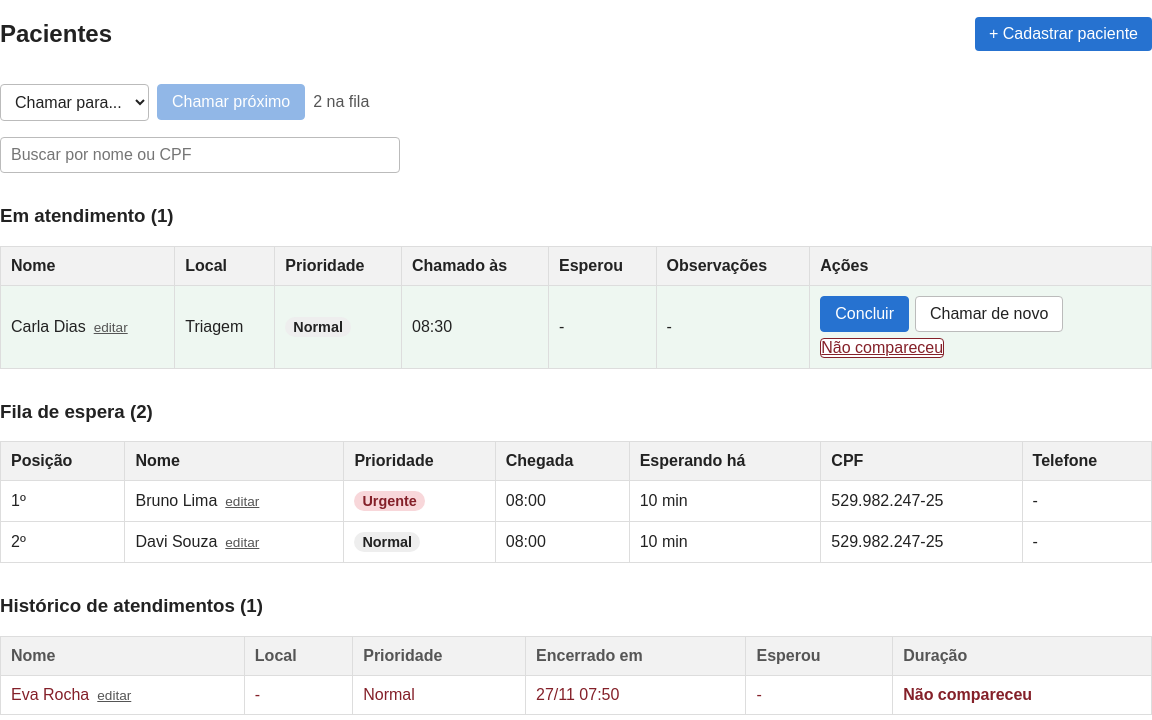
Test: erro do servidor (409) vira mensagem vermelha
The width and height of the screenshot is (1152, 720).
Select "Triagem" in the dropdown named "Chamar para" at {"x": 74, "y": 102}, box x1=0 y1=84 x2=149 y2=121
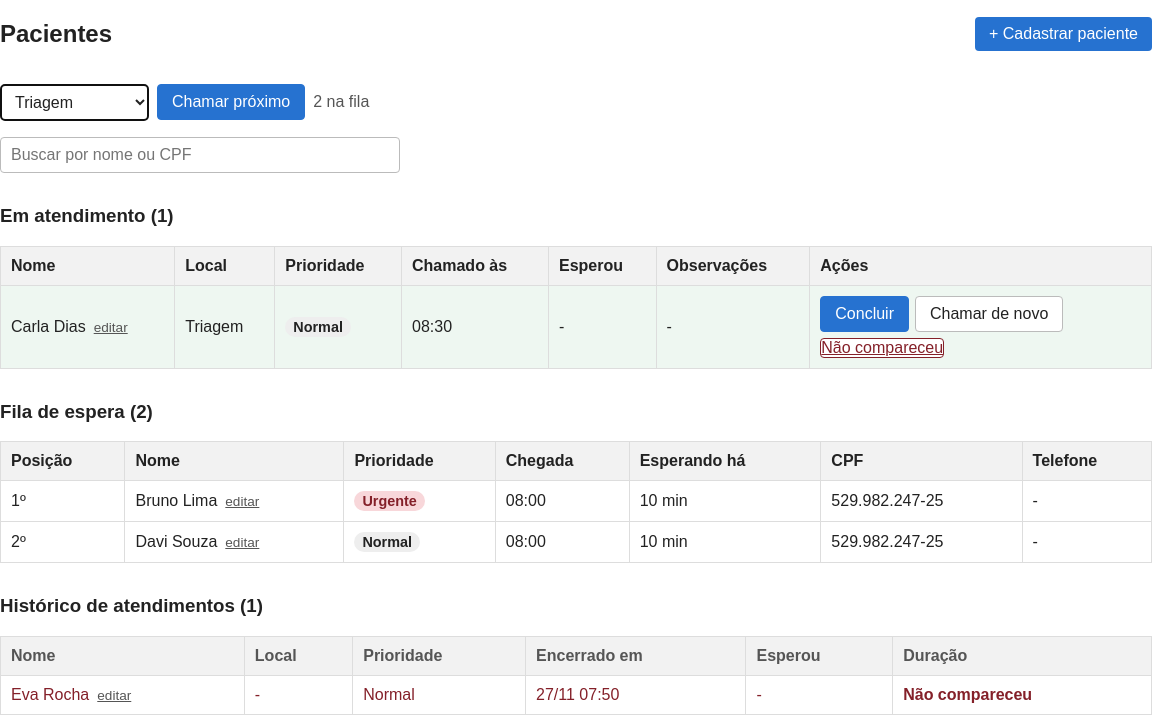
Click the button "Chamar próximo".
click(231, 102)  # box x1=157 y1=84 x2=305 y2=120
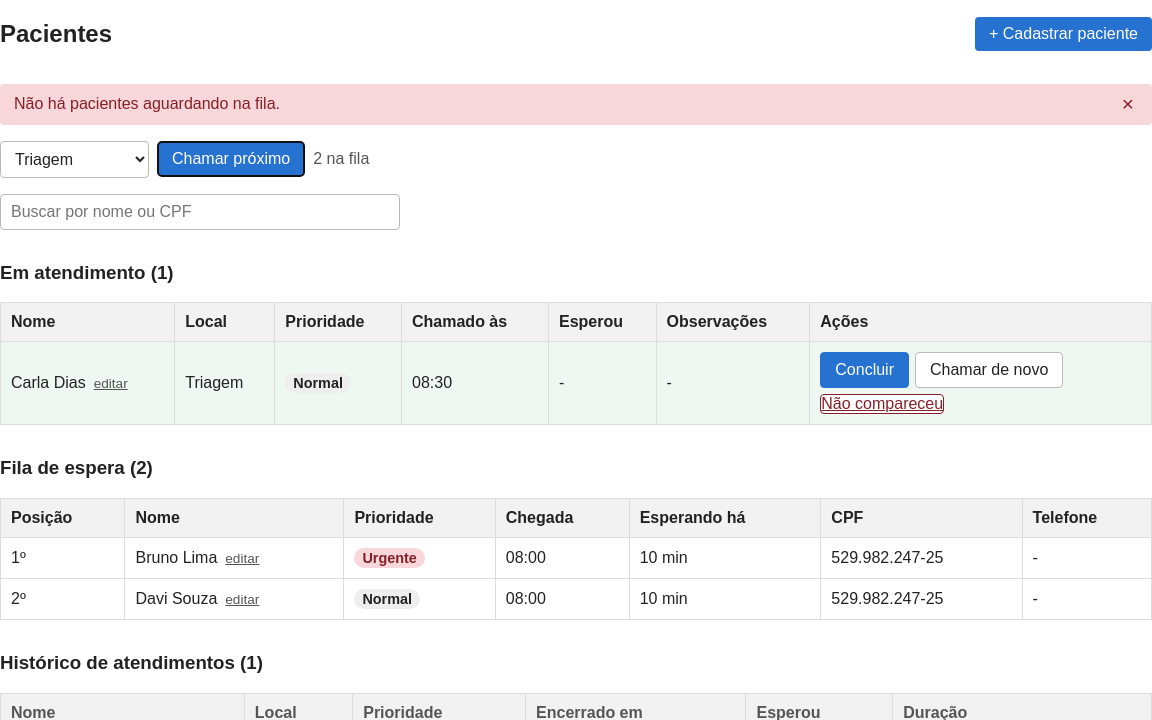
Result: the message shows "Não há pacientes aguardando na fila." at x1=14 y1=95 x2=280 y2=112
